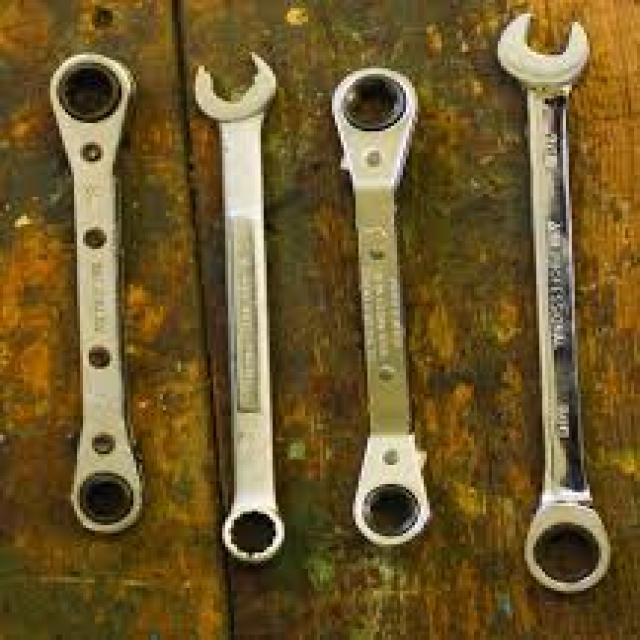wrench: (490, 6, 620, 599), (324, 64, 442, 549), (187, 46, 290, 568), (46, 47, 152, 540)
